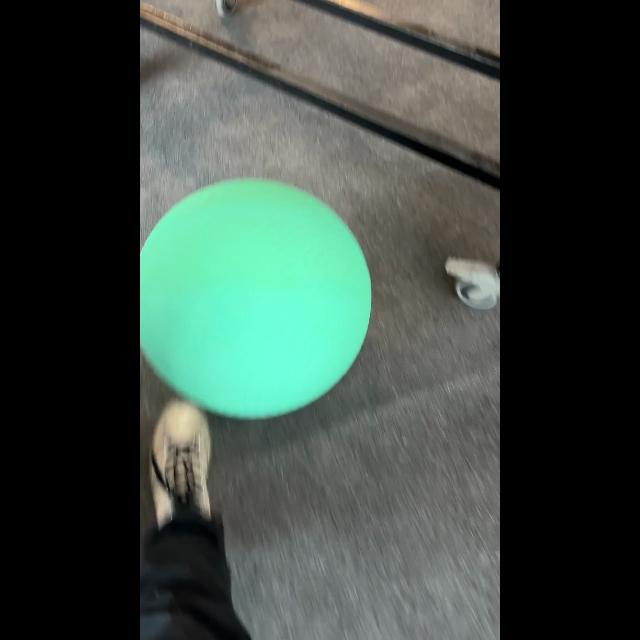ALGAE: (140, 176, 372, 420)
